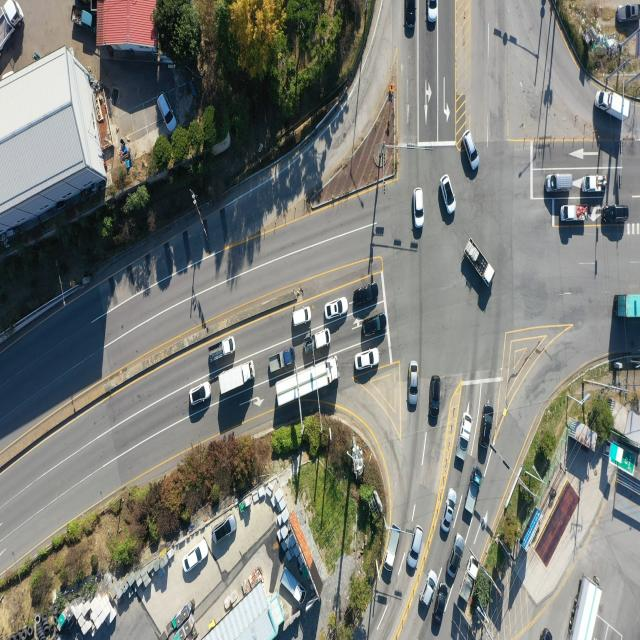car: (448, 534, 466, 578), (185, 538, 207, 574), (156, 94, 175, 134), (408, 526, 424, 570), (442, 490, 458, 533), (213, 518, 236, 547), (462, 131, 478, 171), (481, 404, 495, 448), (422, 570, 438, 608), (361, 316, 386, 340), (409, 360, 421, 410), (352, 282, 378, 305), (434, 586, 450, 622), (442, 176, 456, 216), (548, 176, 576, 196), (355, 348, 379, 371), (429, 378, 440, 428), (602, 205, 629, 225), (188, 382, 210, 406), (324, 298, 347, 320), (617, 2, 640, 23), (414, 187, 425, 228), (291, 307, 311, 328), (407, 1, 417, 40), (426, 0, 437, 23), (539, 624, 550, 640)
medium_truck: (273, 355, 339, 408), (566, 578, 602, 640), (467, 240, 496, 290), (219, 360, 255, 396), (593, 87, 629, 121), (0, 0, 22, 50), (615, 294, 640, 322)
small_truck: (281, 568, 307, 606), (466, 467, 484, 518), (268, 347, 296, 375), (456, 410, 472, 459), (382, 528, 399, 572), (208, 337, 235, 363), (304, 330, 331, 354), (70, 6, 95, 30), (560, 204, 588, 224), (583, 174, 606, 193)
